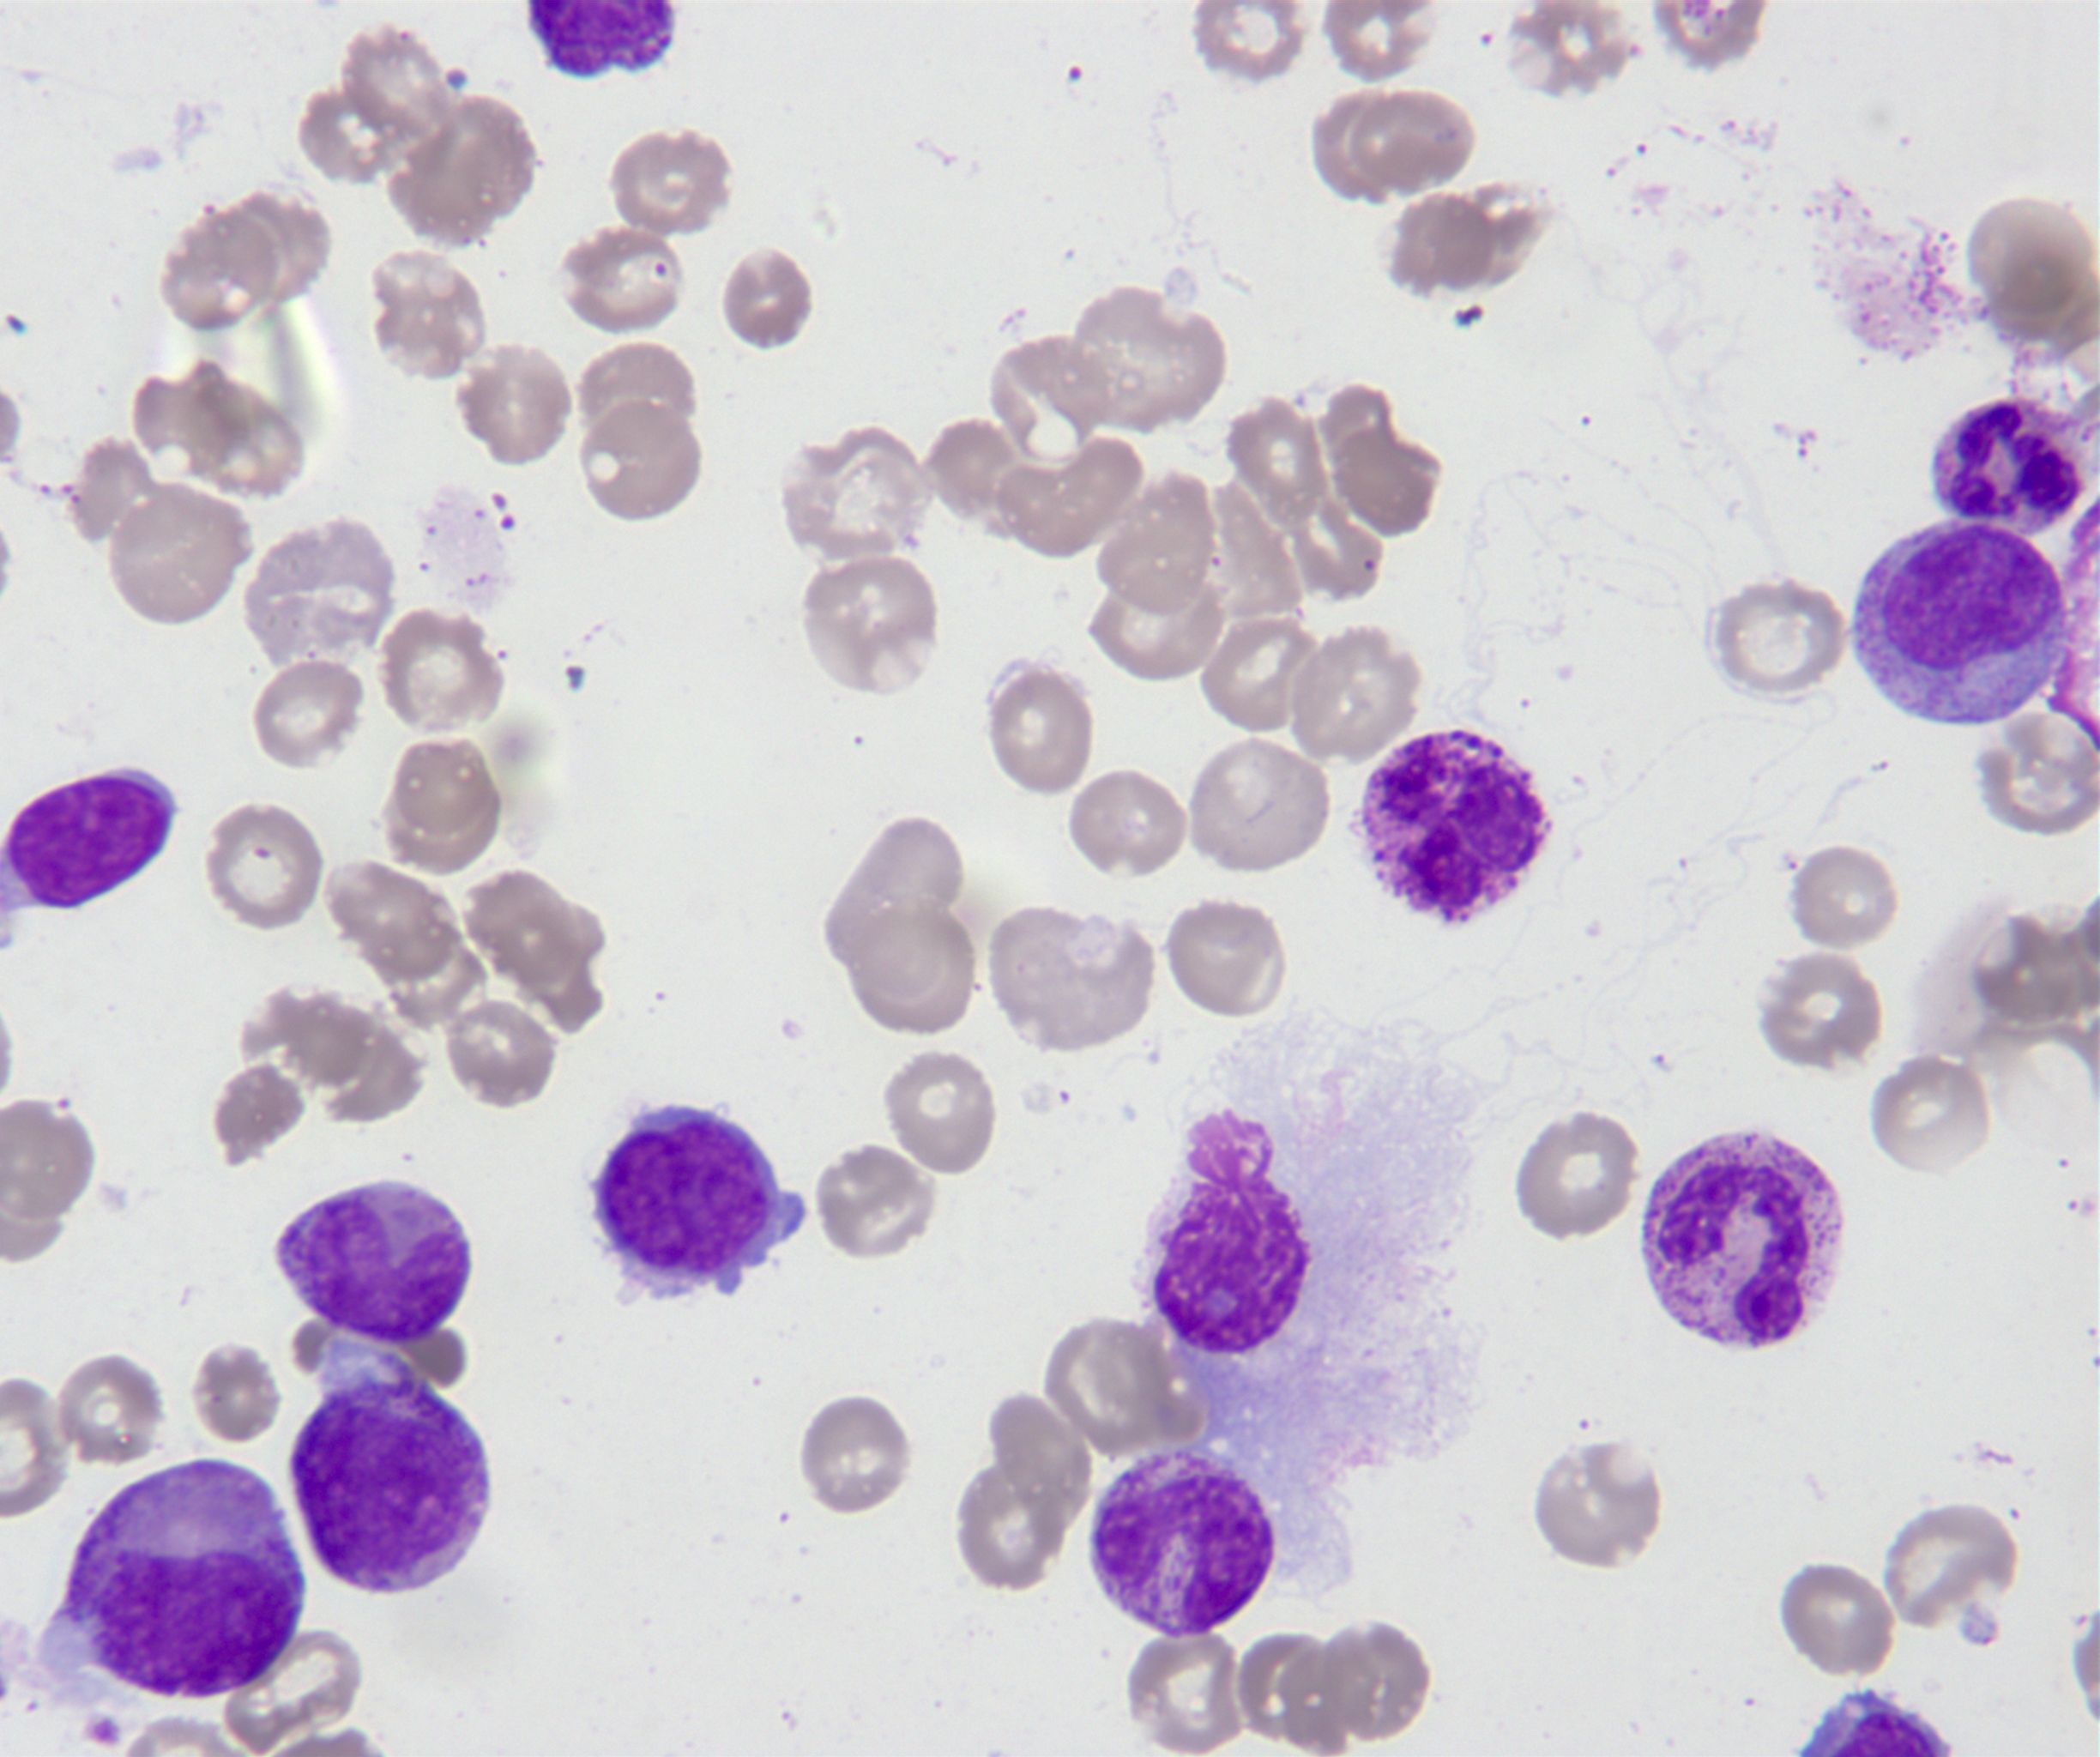2: (583, 1103, 808, 1302)
3: (56, 1452, 310, 1705), (286, 1370, 497, 1602), (1851, 516, 2069, 731)
32: (0, 761, 185, 918)
4: (1087, 1441, 1280, 1652), (267, 1167, 483, 1350)
5: (1633, 1125, 1852, 1356)
6: (1926, 394, 2100, 543)
B4: (1352, 724, 1559, 932)
x: (1144, 1090, 1319, 1361)
